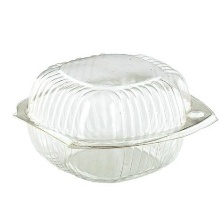plastic_box: (5, 42, 223, 190)
